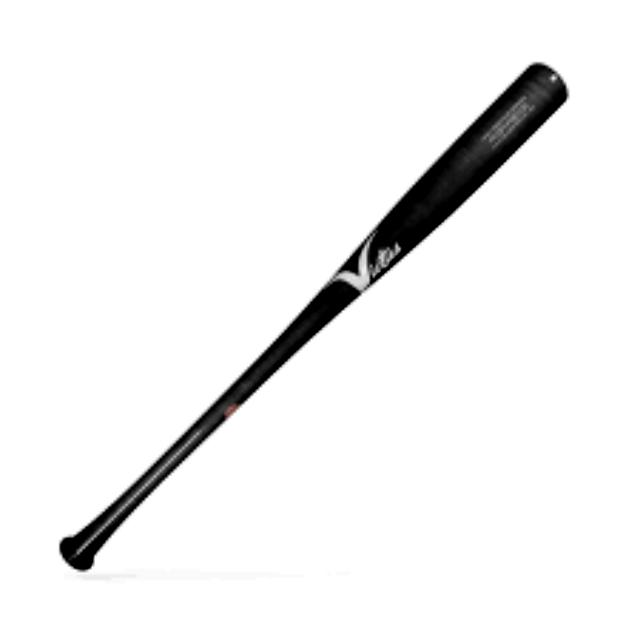baseball bat: (60, 54, 567, 566)
